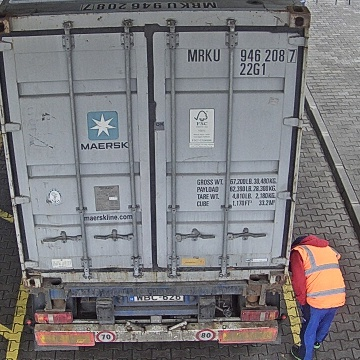serial_id: (187, 49, 295, 62)
